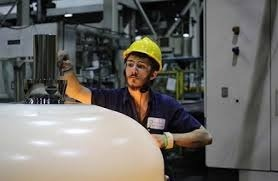helmet: (121, 34, 165, 72)
person with partial safety: (117, 33, 172, 114)
